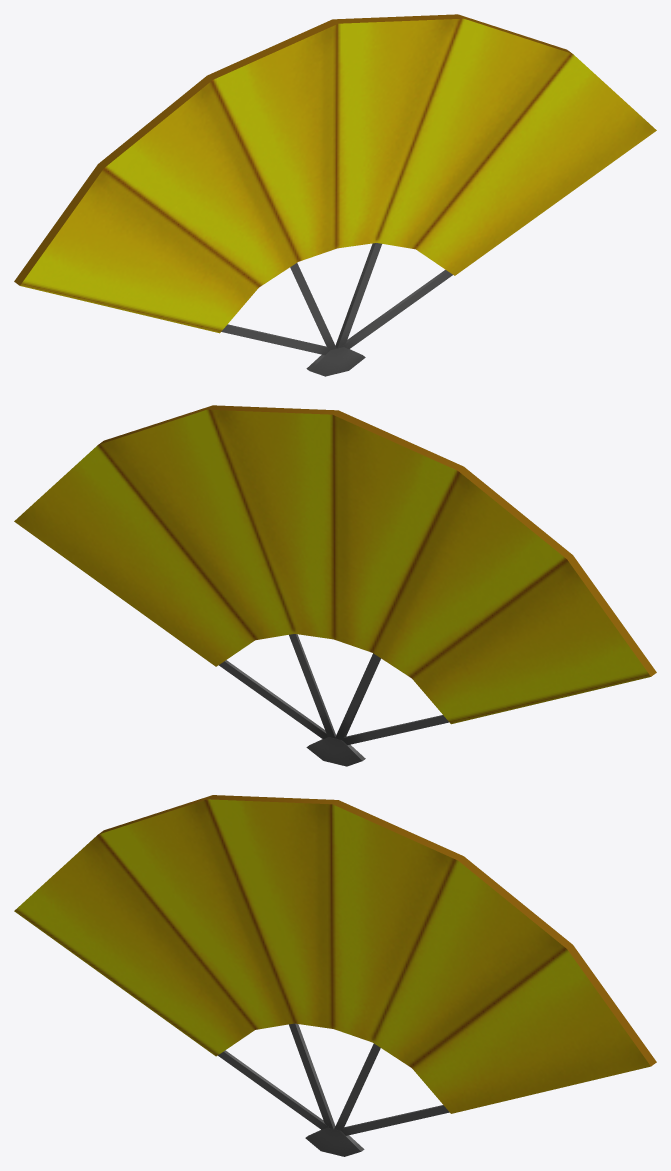
Rendered from ougi.fbx.
The picture shows the model from 3 angles, top to bottom: view 1: azimuth 30°, elevation 25°; view 2: azimuth 150°, elevation 25°; view 3: azimuth 330°, elevation 25°; orthographic projection.
Visible parts, largest first — view 1: ougi7; view 2: ougi7; view 3: ougi7.
Part boxes in pixels (bbox=[...]): ougi7: bbox=[14, 14, 656, 376]; ougi7: bbox=[14, 405, 656, 766]; ougi7: bbox=[14, 795, 656, 1156].
Bounding box in the file's own units: 26.77 × 14.07 × 0.4308.
